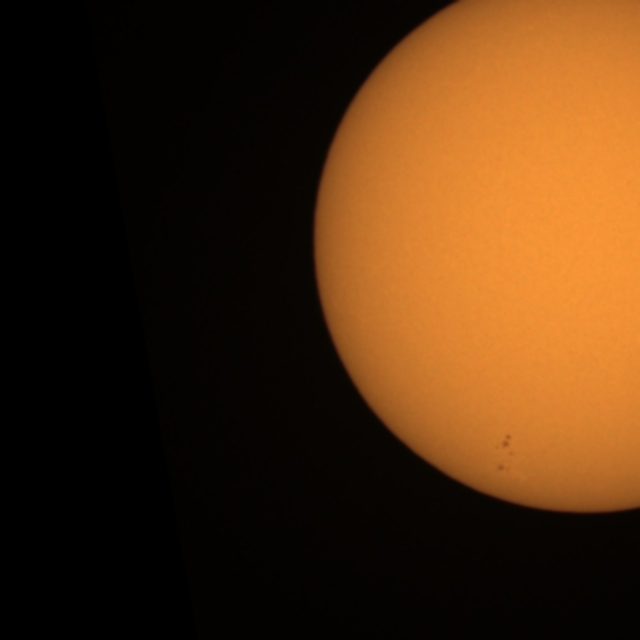sunspot: (494, 432, 516, 470)
